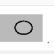no answer: (12, 18, 35, 36)
